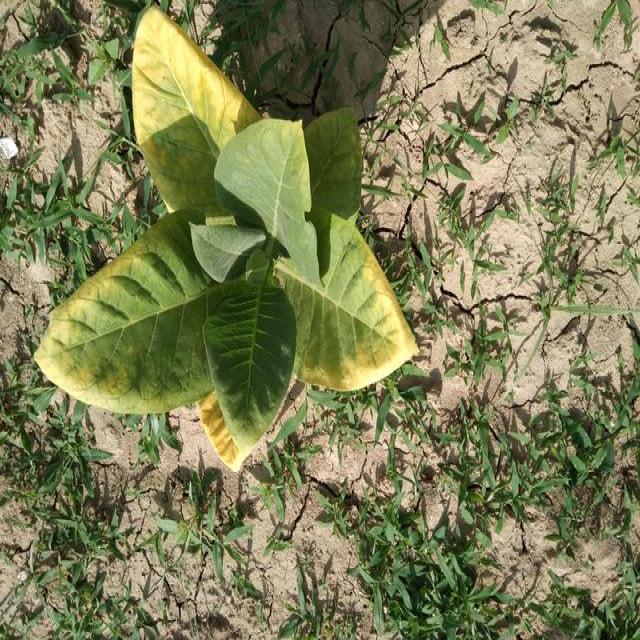crop: (35, 7, 422, 477)
